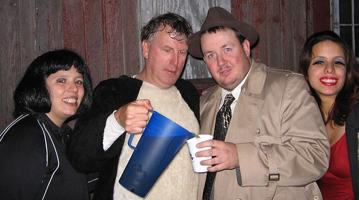person: (67, 13, 202, 200)
